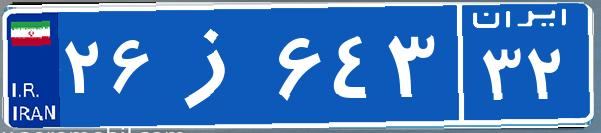2: (57, 26, 110, 107), (525, 38, 570, 115)
3: (385, 28, 445, 110), (475, 38, 525, 113)
4: (330, 28, 385, 110)
6: (273, 28, 330, 110), (110, 28, 158, 105)
ز: (158, 15, 273, 115)
